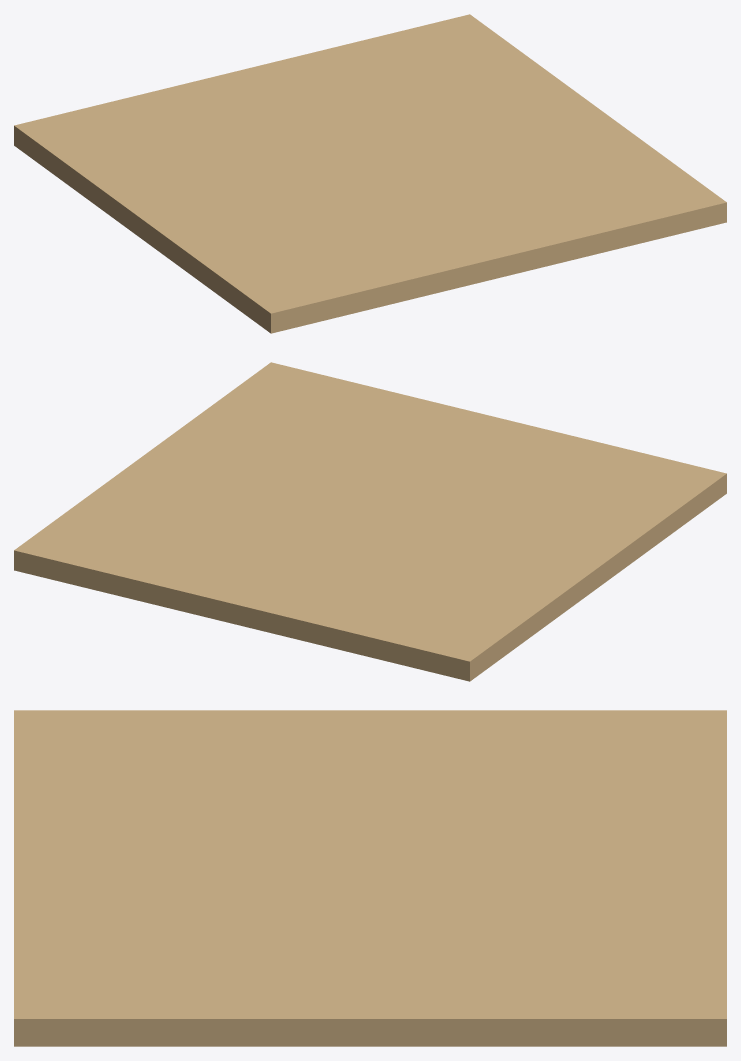
File: ground.fbx
The picture shows the model from 3 angles, top to bottom: view 1: azimuth 30°, elevation 25°; view 2: azimuth 150°, elevation 25°; view 3: azimuth 270°, elevation 25°; orthographic projection. The views are drawn at different scales.
Parts seen in each view (by area): view 1: geo_ground; view 2: geo_ground; view 3: geo_ground.
Boxes of the visible parts, x1,y1,x2,y2 form: geo_ground: (14,14,726,333); geo_ground: (14,362,726,681); geo_ground: (14,710,726,1046).
Bounding box in the file's own units: 975 × 40.91 × 952.
